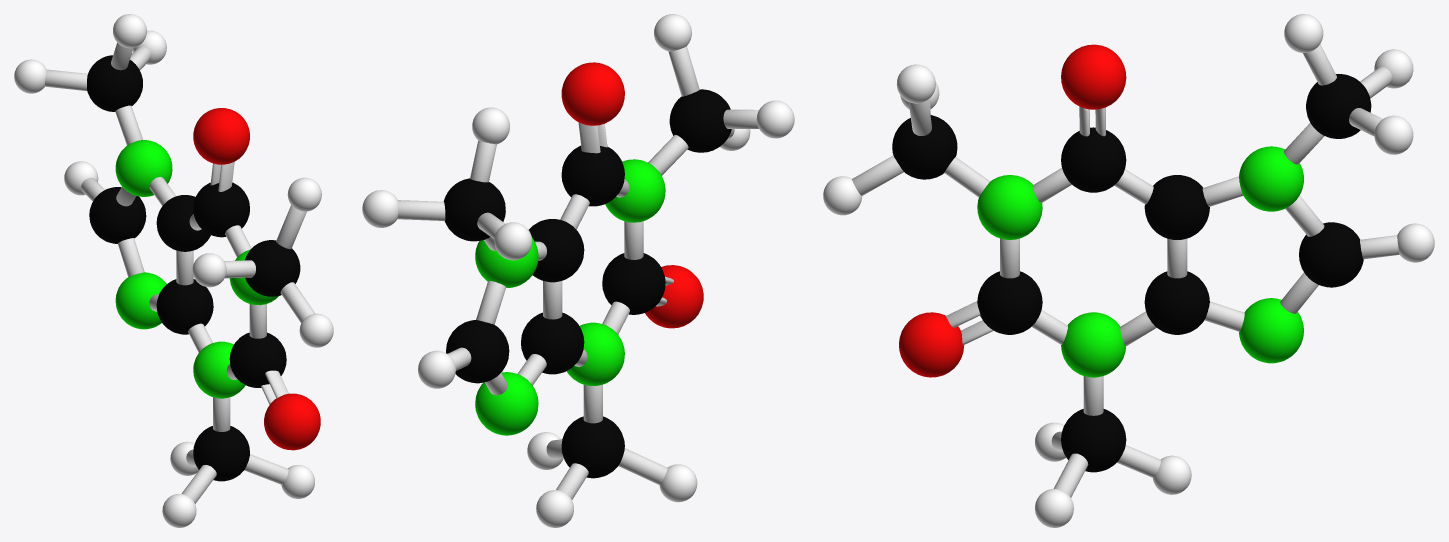
The picture shows the model from 3 angles, left to right: view 1: azimuth 30°, elevation 25°; view 2: azimuth 150°, elevation 25°; view 3: azimuth 270°, elevation 25°; orthographic projection. The views are drawn at different scales.
Visible parts, largest first — view 1: C-O-1.001, C-O-1, 6-C-C-2, 6-N-C, C.001, 6-N-C.001, C.002, 5-N-C-1, C, 5-C-N-1, 6-C-C-1, N.002 (+29 smaller); view 2: C-O-1, 6-N-C.001, C, C.002, 6-N-C, 5-C-N-1, 6-C-C-2, 5-N-C-1, C.001, 6-C-C-1, N, N.002 (+27 smaller); view 3: C-O-1, C-O-1.001, N, N.002, 6-C-C-1, 6-N-C, 6-C-C-2, 6-N-C.001, 5-C-N-1, 5-N-C-1, C.002, C (+28 smaller).
Part boxes in pixels (x1,y1,x2,y2): C-O-1.001: (264, 393, 320, 450); C-O-1: (193, 108, 249, 164); 6-C-C-2: (156, 279, 213, 334); 6-N-C: (193, 182, 249, 237); C.001: (87, 55, 142, 111); 6-N-C.001: (229, 332, 286, 387); C.002: (193, 426, 249, 481); 5-N-C-1: (89, 187, 146, 243); C: (245, 240, 300, 296); 5-C-N-1: (115, 272, 166, 329); 6-C-C-1: (156, 195, 210, 251); N.002: (193, 341, 245, 398); C-O-1: (561, 62, 624, 125); 6-N-C.001: (602, 253, 665, 314); C: (669, 89, 731, 152); C.002: (561, 416, 624, 478); 6-N-C: (561, 145, 624, 206); 5-C-N-1: (475, 372, 538, 435); 6-C-C-2: (521, 312, 584, 374); 5-N-C-1: (446, 320, 509, 383); C.001: (443, 178, 505, 241); 6-C-C-1: (529, 219, 584, 282); N: (605, 159, 665, 222); N.002: (566, 322, 624, 385); C-O-1: (1061, 44, 1126, 109); C-O-1.001: (899, 312, 964, 377); N: (977, 175, 1042, 239); N.002: (1061, 312, 1125, 377); 6-C-C-1: (1144, 175, 1209, 239); 6-N-C: (1061, 127, 1126, 192); 6-C-C-2: (1144, 271, 1209, 334); 6-N-C.001: (977, 271, 1042, 334); 5-C-N-1: (1239, 298, 1303, 363); 5-N-C-1: (1299, 222, 1363, 287); C.002: (1061, 409, 1126, 472); C: (892, 115, 957, 179).
Bounding box in the file's own units: 894 × 2014 × 2340.
